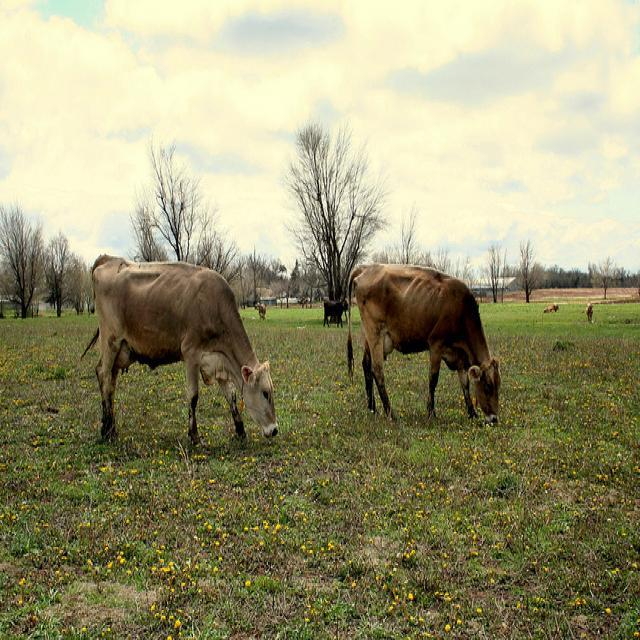cow: (74, 249, 278, 444), (344, 258, 500, 426), (321, 293, 348, 329), (584, 300, 592, 322), (542, 302, 557, 311), (258, 302, 265, 320)
